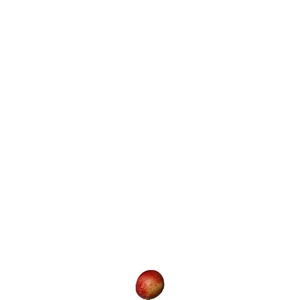nectarina: (135, 270, 165, 300)
